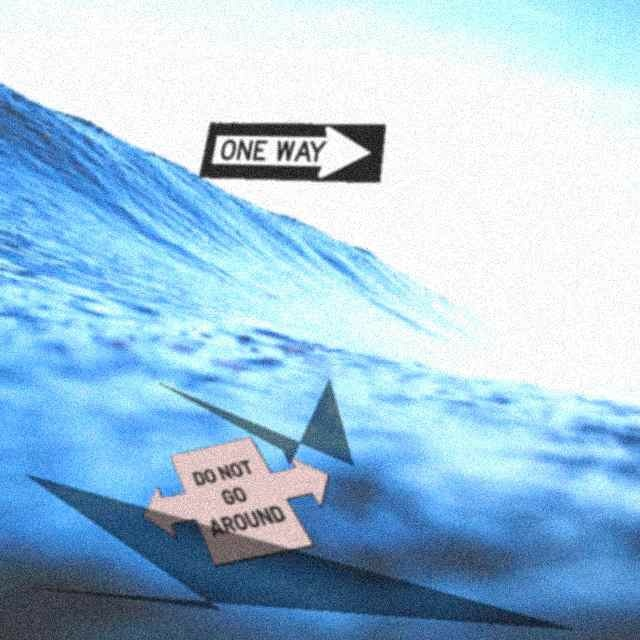DO_NOT_GO_AROUND: (142, 436, 330, 567)
ONE_WAY_ right: (198, 122, 386, 183)
